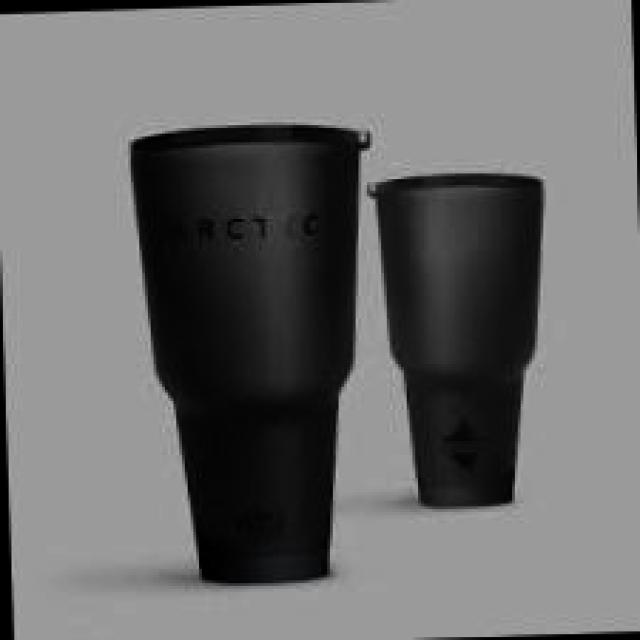bottle: (121, 115, 382, 590), (364, 161, 558, 516)
